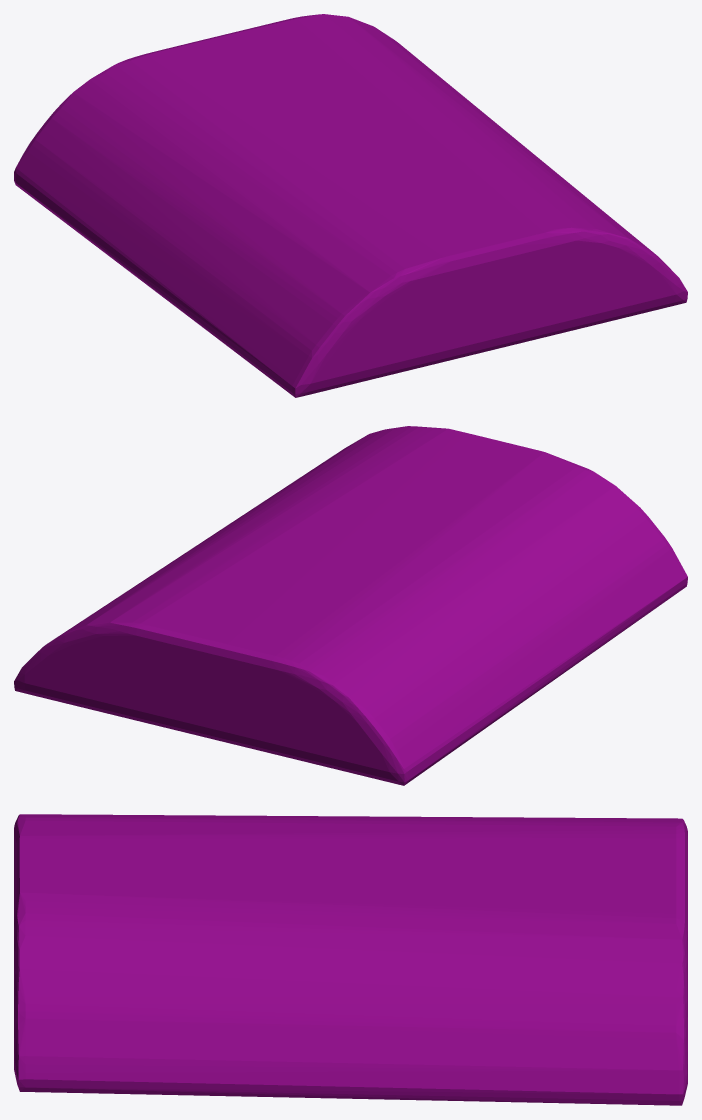
The model's file is right_shoulder_yaw_link_part_14.obj.
3 renders of one model, top to bottom at view 1: azimuth 30°, elevation 25°; view 2: azimuth 150°, elevation 25°; view 3: azimuth 270°, elevation 25°, orthographic. The views are drawn at different scales.
Bounding box in the file's own units: 0.0515 × 0.0124 × 0.0627.
